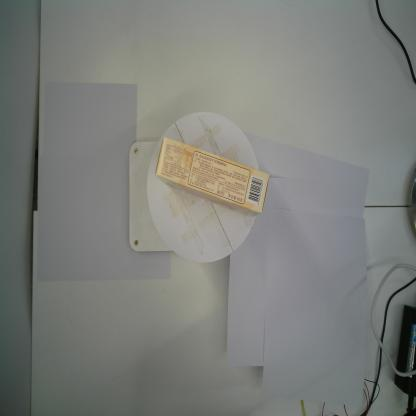Dessert: (154, 135, 270, 218)
